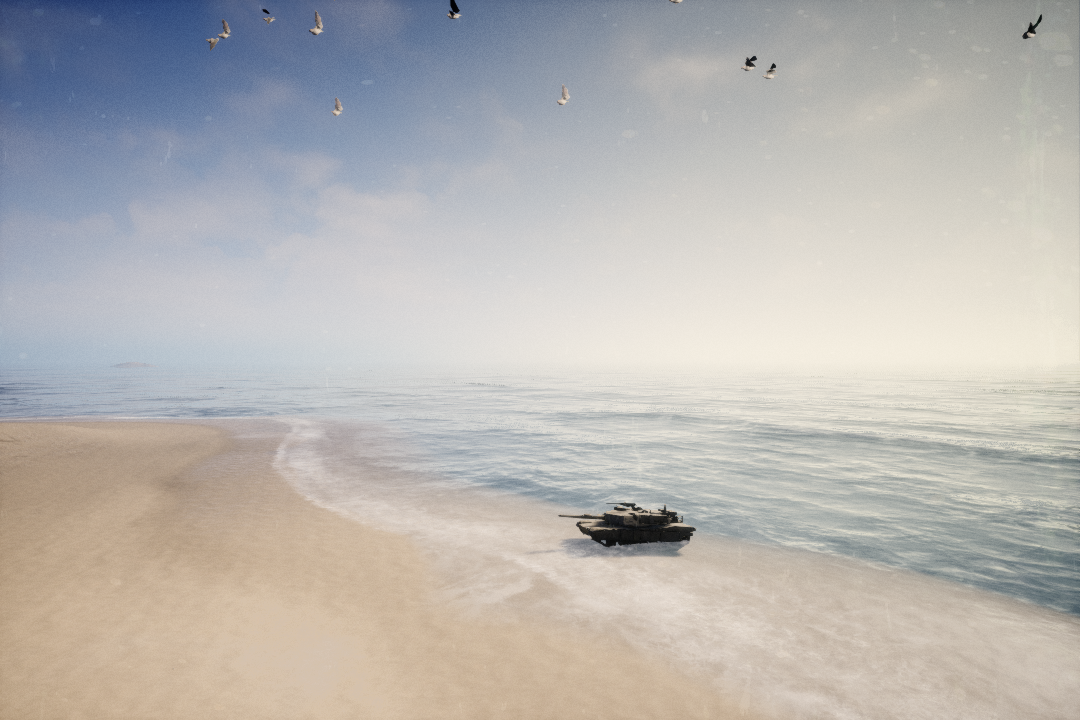tank: (555, 500, 700, 550)
